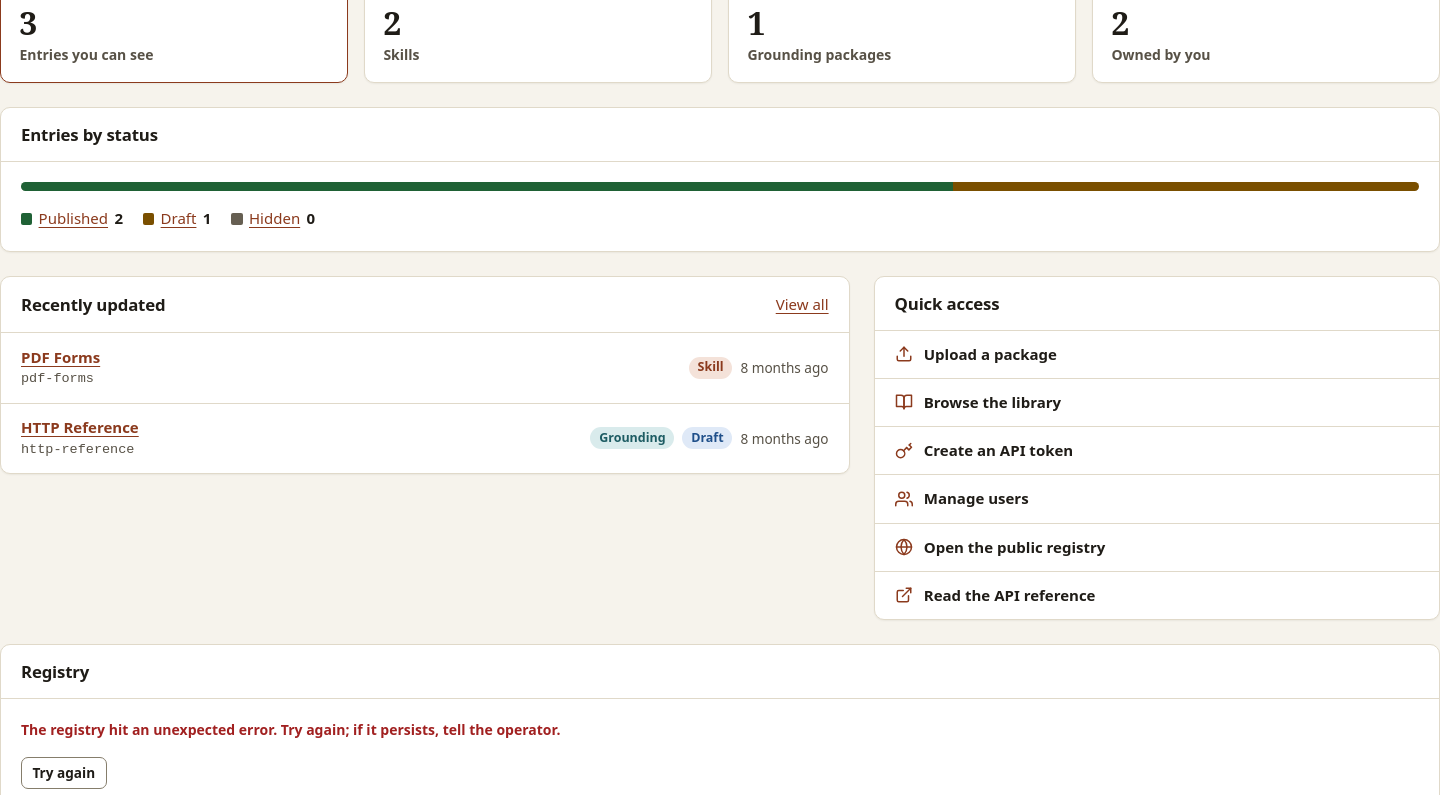
Test: Dashboard › explains when the registry information cannot be loaded, and retries
(page scrolled)
Expected: the message shows "unexpected error", [21,720,560,739]
Click the button "Try again" at (64, 773), box [21,757,106,789]
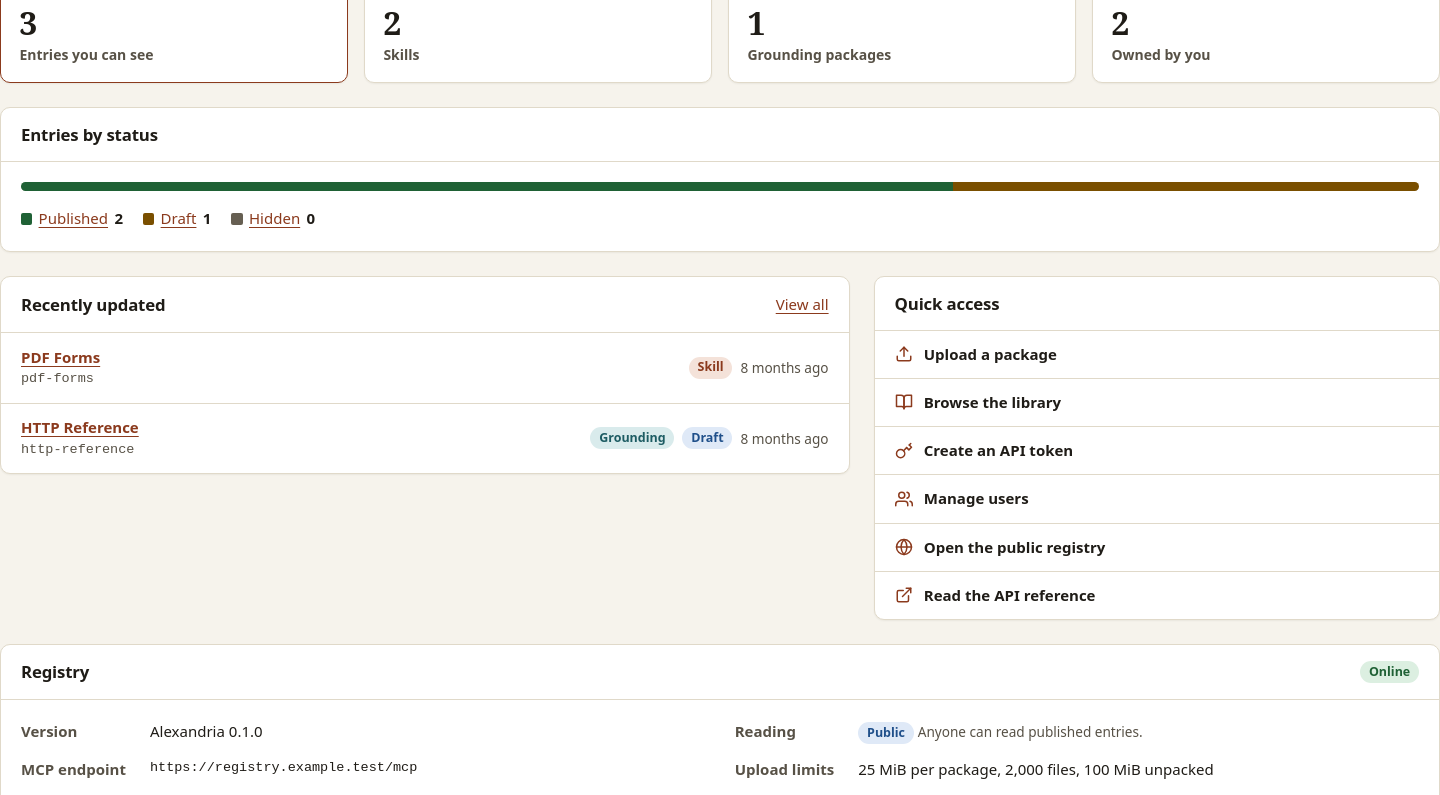
Expected: the text "Online" is shown, [1360,661,1419,683]
